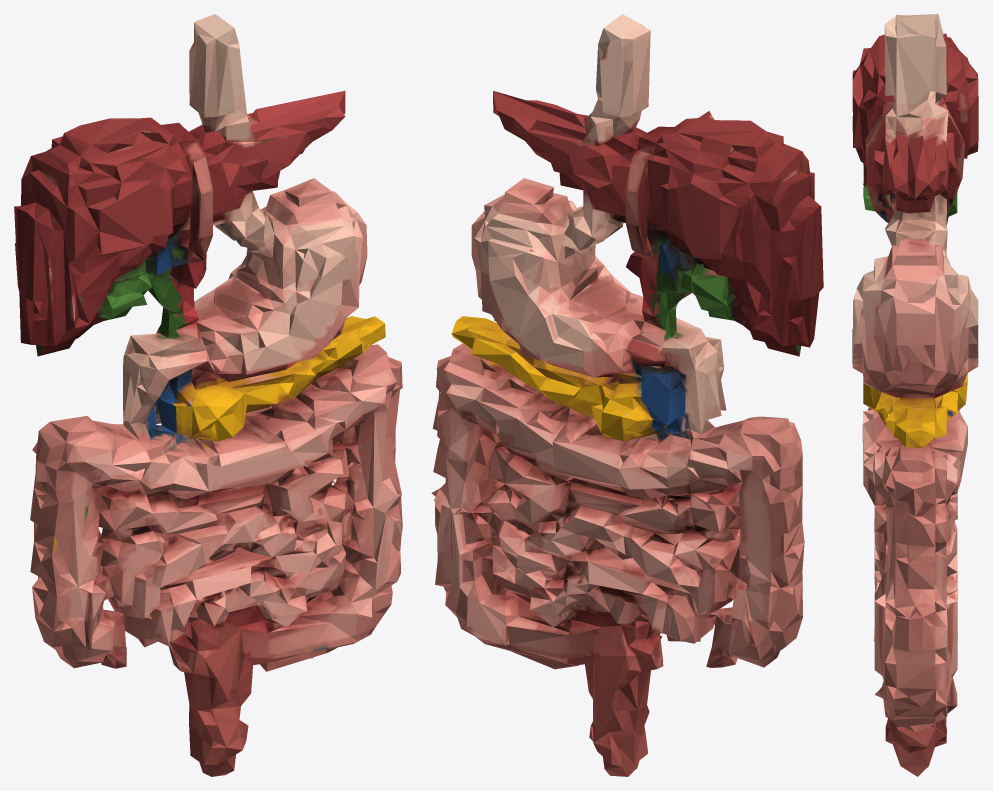
3 renders of one model, left to right at view 1: azimuth 30°, elevation 25°; view 2: azimuth 150°, elevation 25°; view 3: azimuth 270°, elevation 25°, orthographic.
Visible parts, largest first — view 1: node_0; view 2: node_0; view 3: node_0.
Boxes of the visible parts, x1,y1,x2,y2 form: node_0: (14,14,402,776); node_0: (431,14,823,776); node_0: (852,14,978,776).
Size of the model in its own units: 0.6333 by 1.2 by 0.1814.
Materials: 1 (1 with a texture image).
